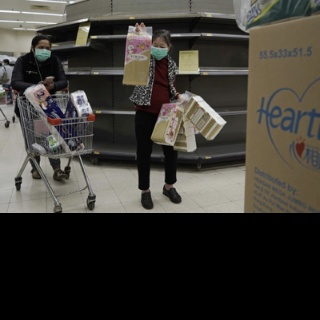with_mask: (32, 43, 51, 62), (150, 40, 168, 60)
